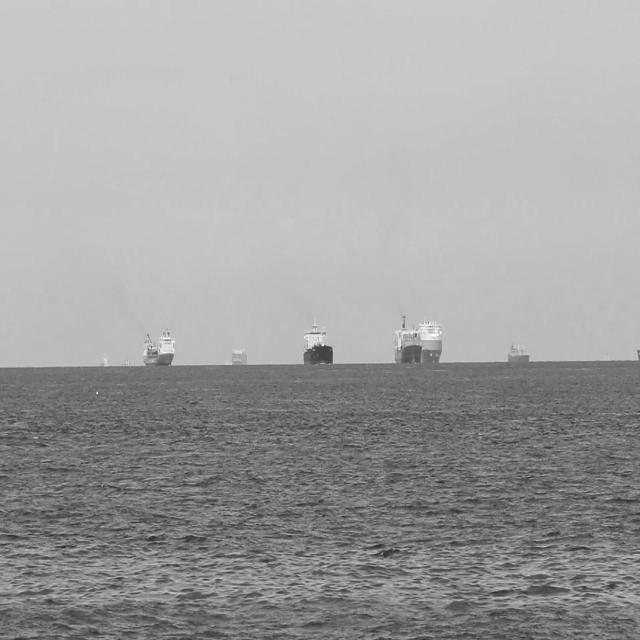ship: (391, 308, 422, 361), (302, 313, 334, 363), (140, 326, 178, 368), (418, 312, 442, 361), (504, 335, 528, 362), (229, 344, 249, 366), (98, 346, 110, 364), (122, 348, 132, 364)
